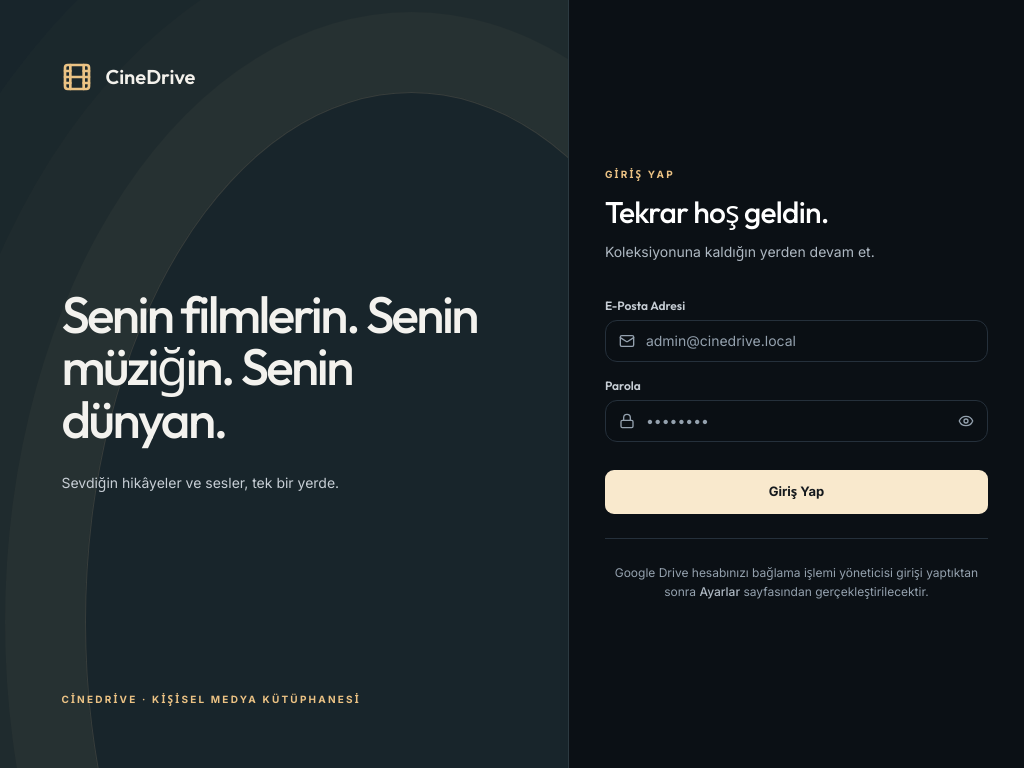
Test case: LoginPage Component › does not navigate when the login cookie did not establish a session
Type "qa@example.com" into the field with placeholder "admin@cinedrive.local" at [796, 340], box [605,320,988,362]
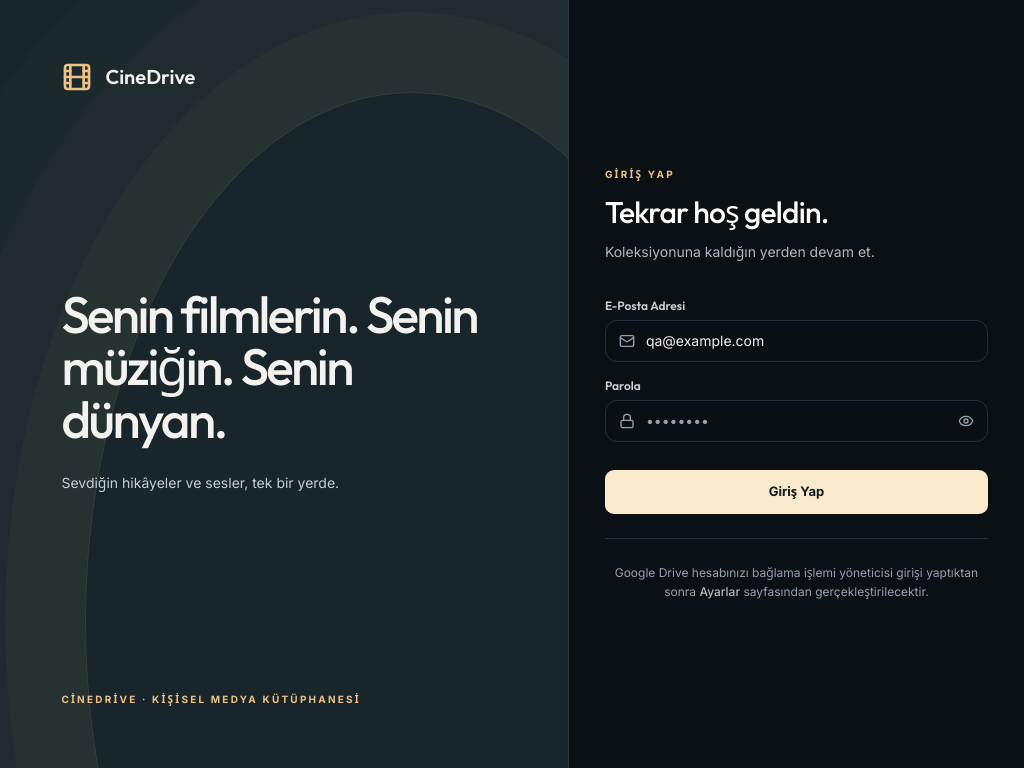
Type "password123" into the password field with placeholder "••••••••" at [796, 420], box [605,400,988,442]
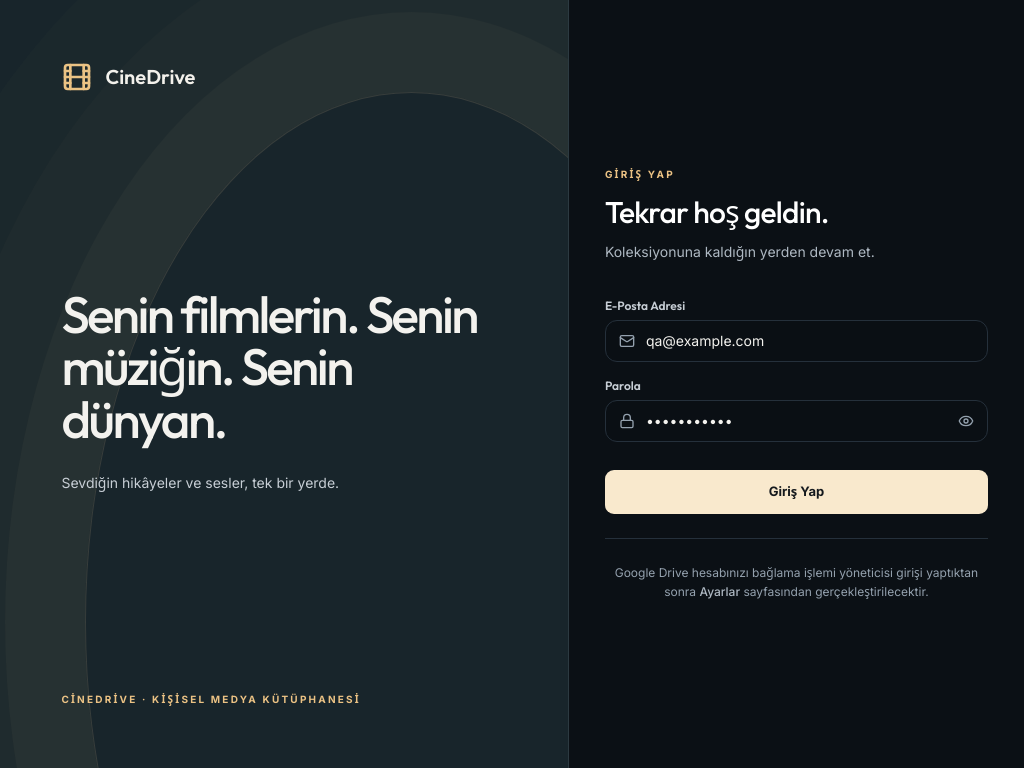
Click the button "Giriş Yap" at [796, 492], box [605,470,988,514]
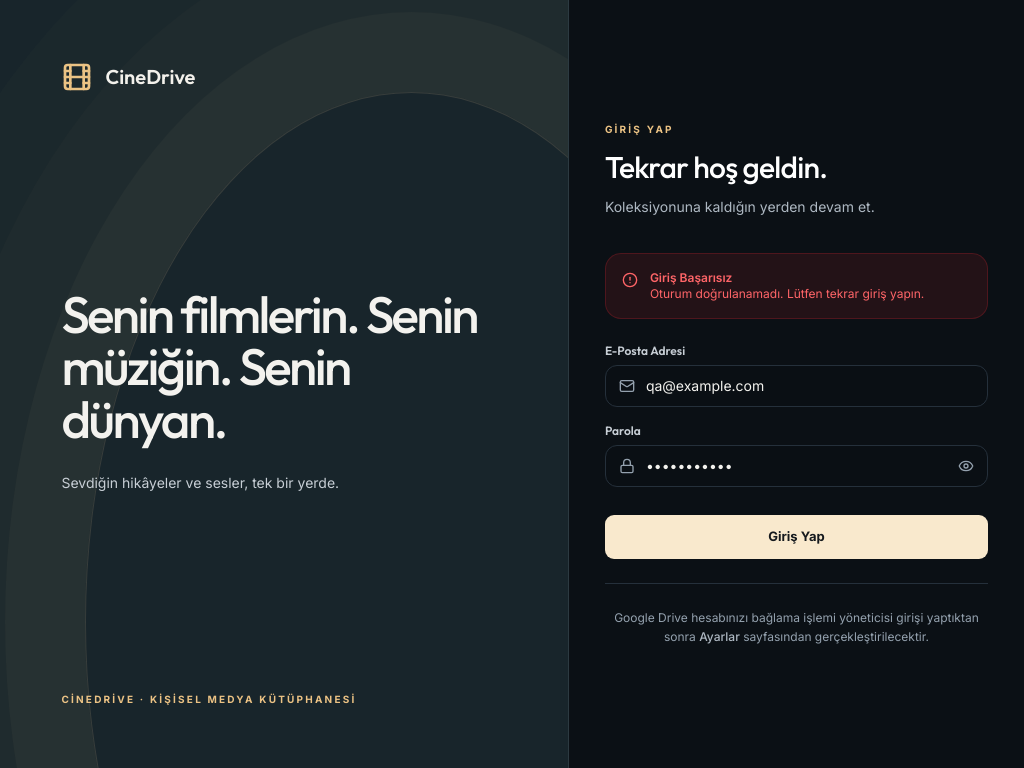
Check: the message "Giriş Başarısız Oturum doğrulanamadı. Lütfen tekrar giriş yapın." is shown, box [605,252,988,318]
